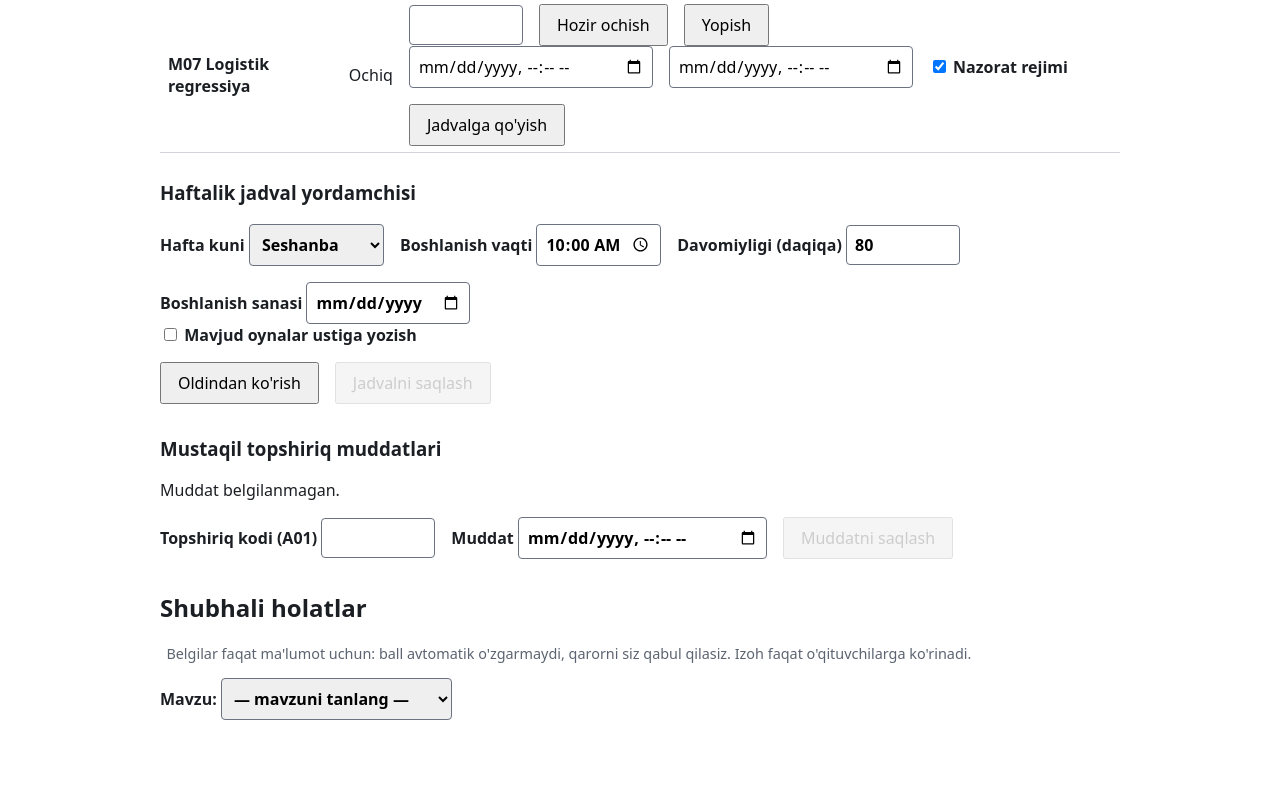
Test case: shubhali holatlar (INT-04, INT-05) › izoh saqlanadi va ro'yxat yangilanadi; xato ko'rsatiladi
This screenshot has width=1280, height=800.
(page scrolled)
Select "M07. Logistik regressiya" in the dropdown labelled "Mavzu:" at (336, 699), box [221,678,452,720]
(page scrolled)
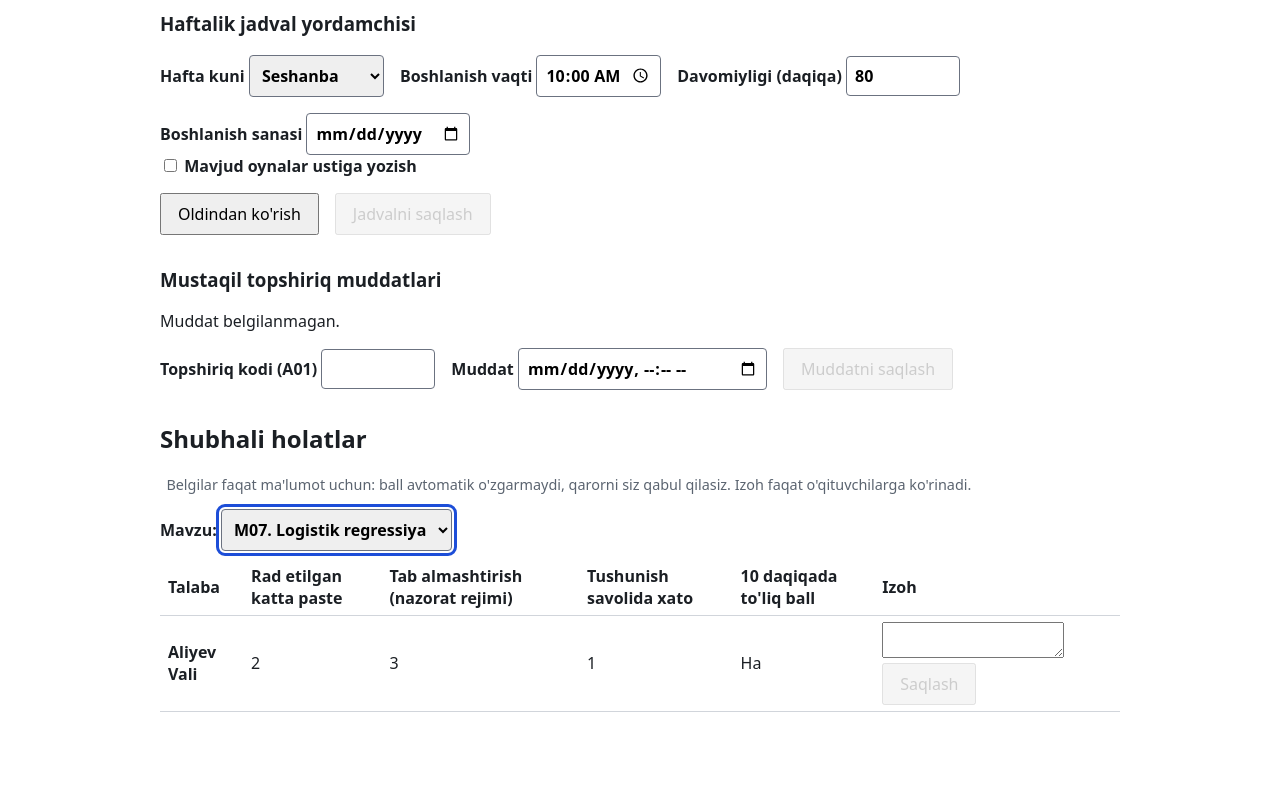
Check: the button "Saqlash" is disabled, box [882,663,976,705]
Type "Sinfda so'rayman" into the text box named "Izoh" at (973, 640), box [882,622,1064,658]
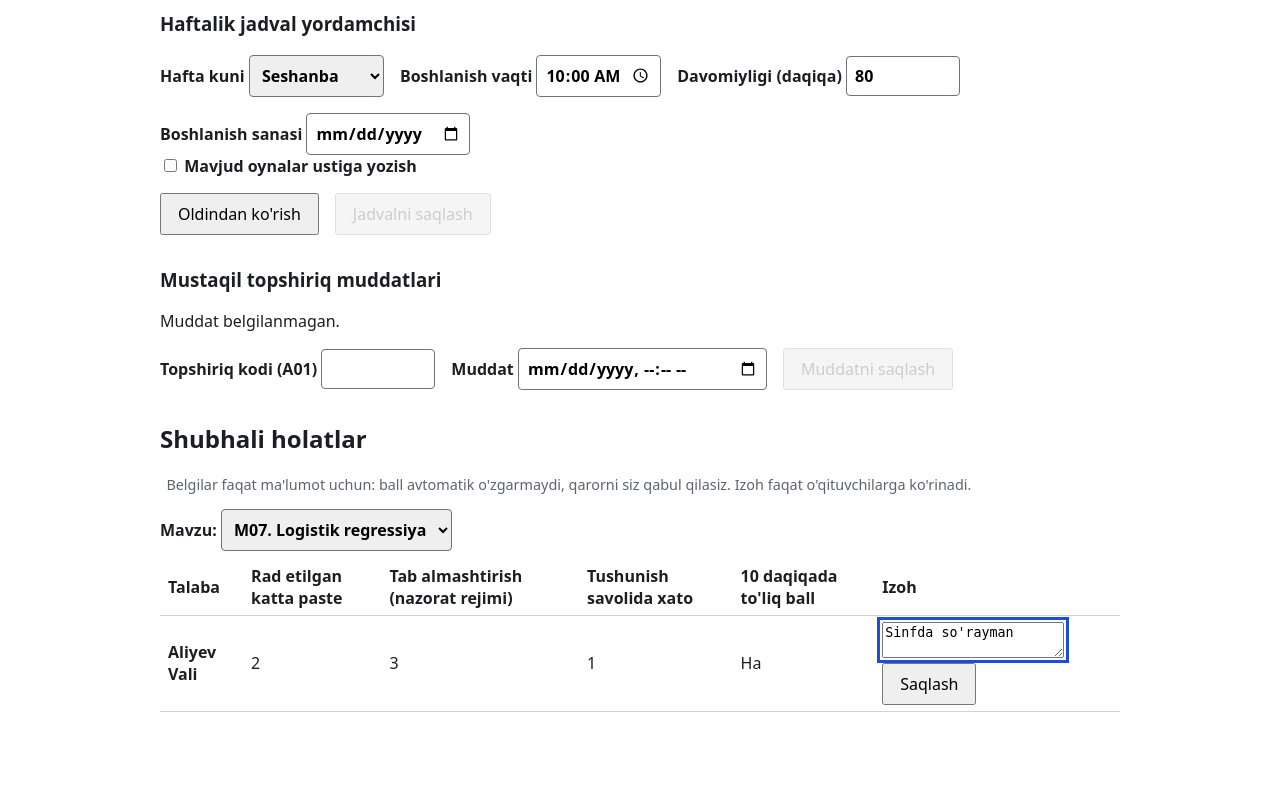
Click the button "Saqlash" at (929, 684), box [882,663,976,705]
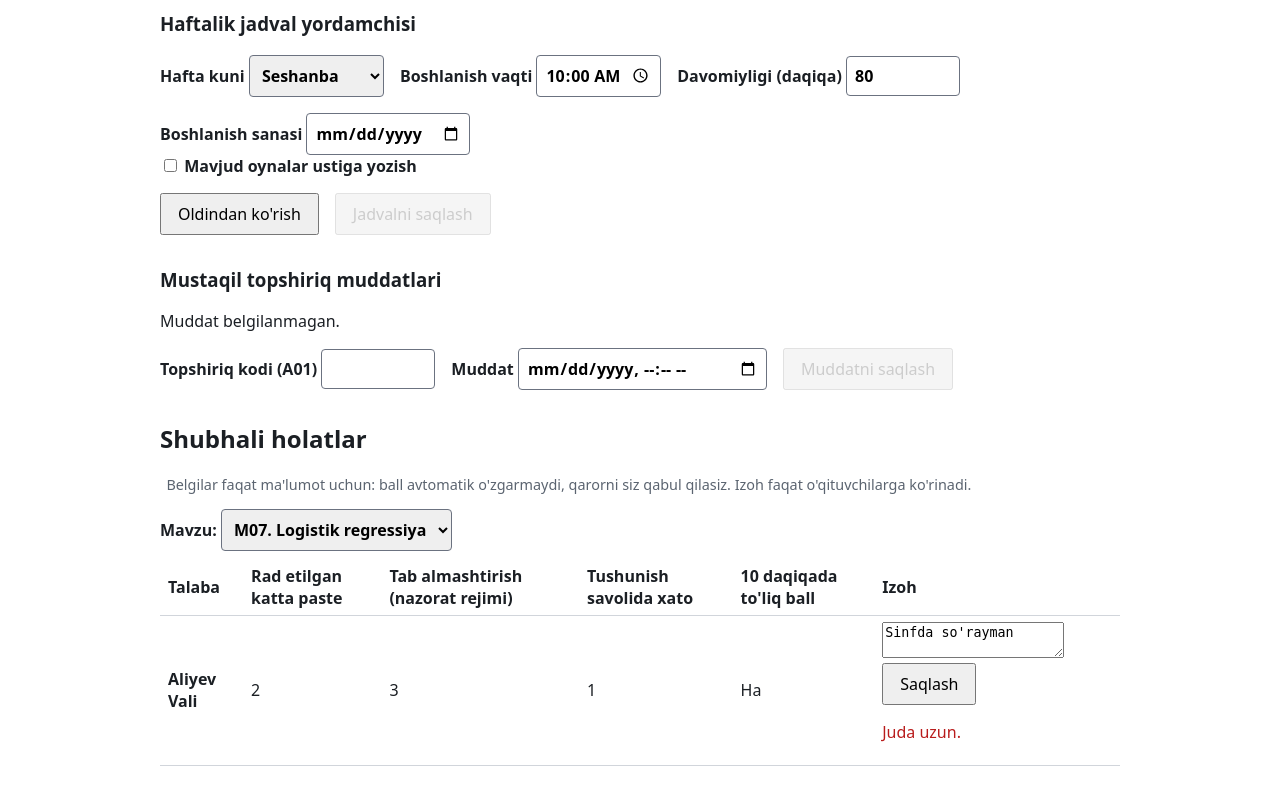
Check: the message reads "Juda uzun.", box [882,721,961,743]
Click the button "Saqlash" at (929, 684), box [882,663,976,705]
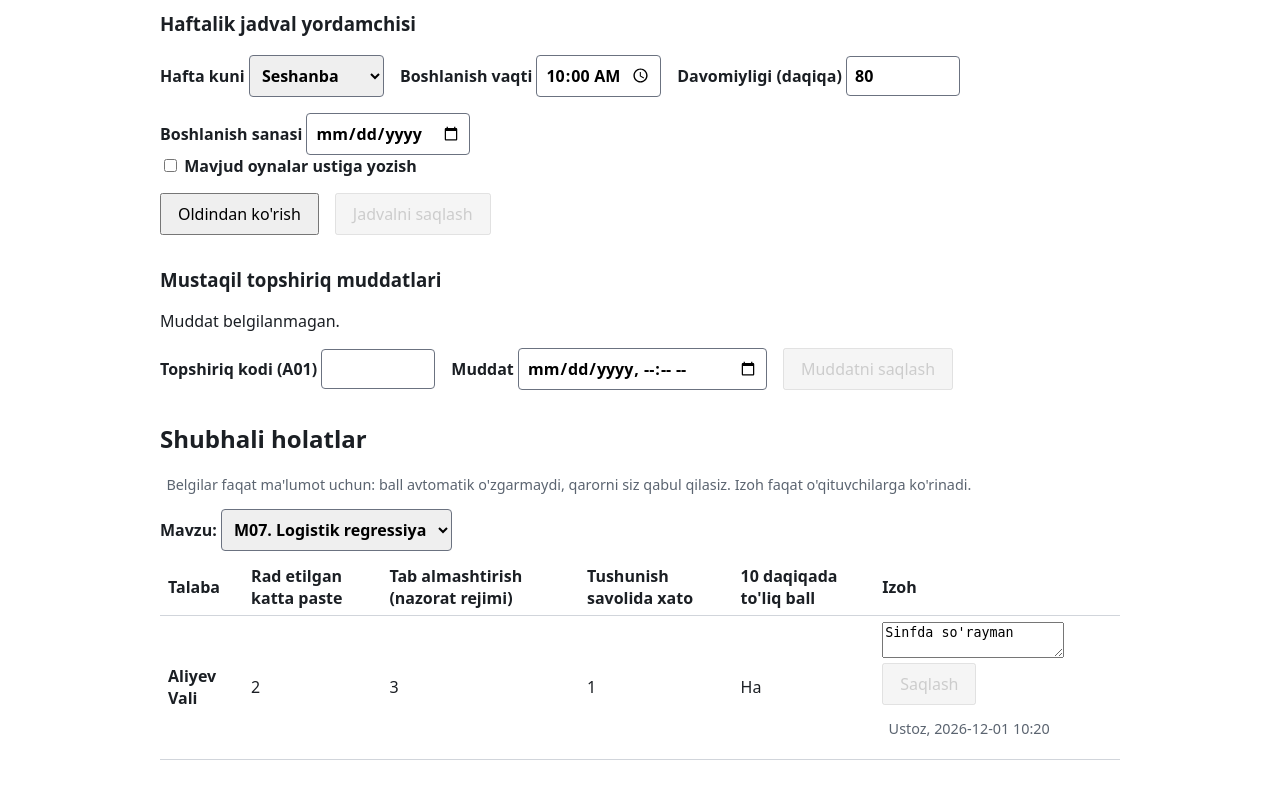
Check: the text "Ustoz, 2026-12-01 10:20" is shown, box [889,719,1050,738]
